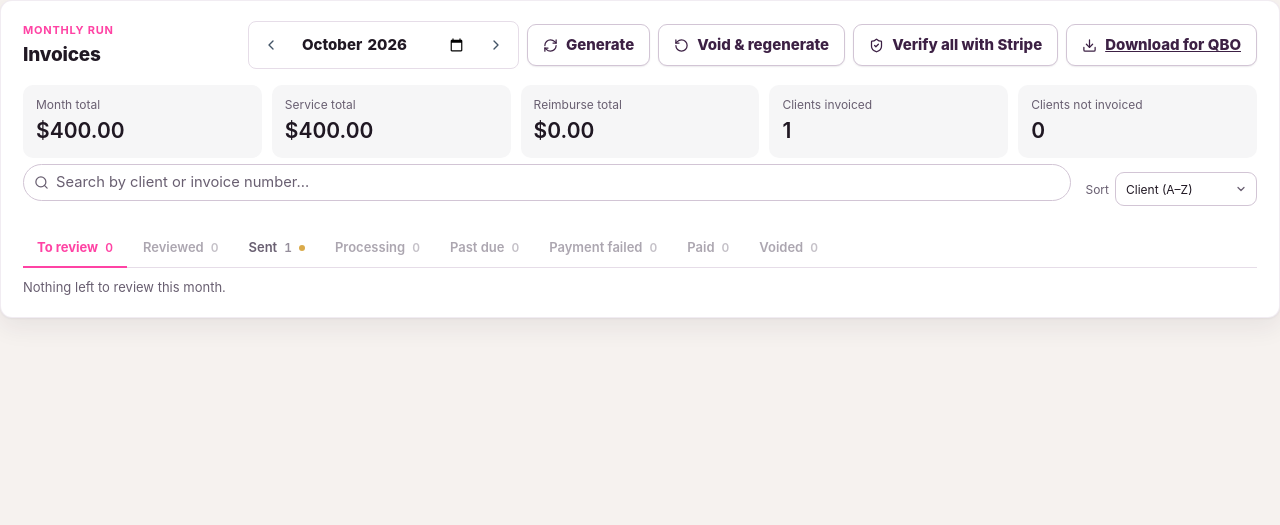
Test case: a payment for a different amount than the invoice total › is not mistaken for a failed payment: a sent invoice stays in Sent
Click the tab "Sent 1" at (277, 249), box x1=234 y1=229 x2=319 y2=268
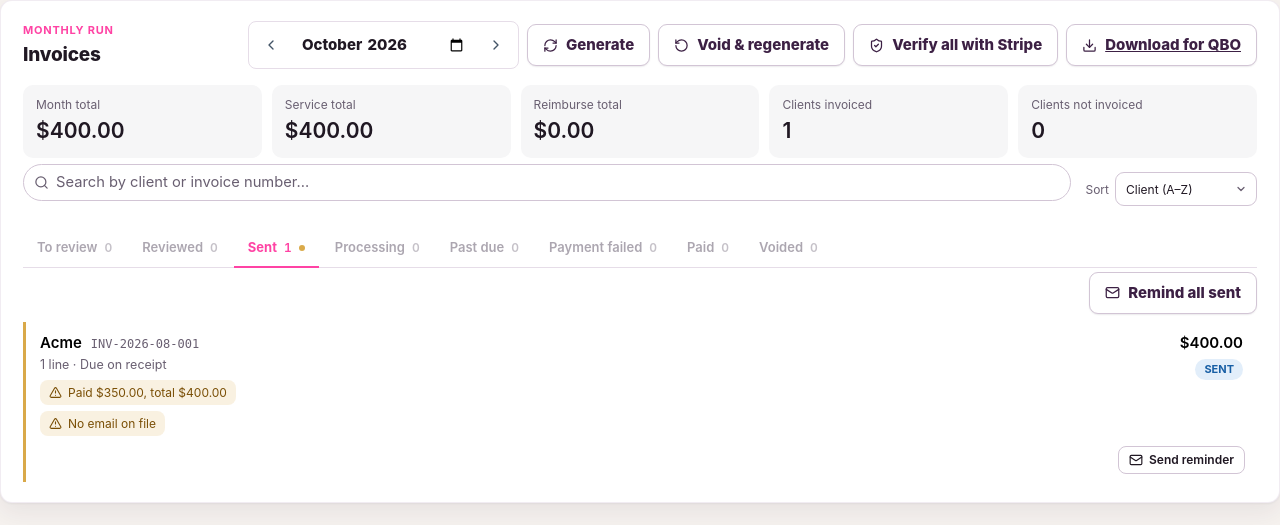
Check: the tab "Payment failed 0" is shown, box x1=535 y1=229 x2=671 y2=268
Check: the text "INV-2026-08-001" is shown, box x1=91 y1=336 x2=199 y2=353
